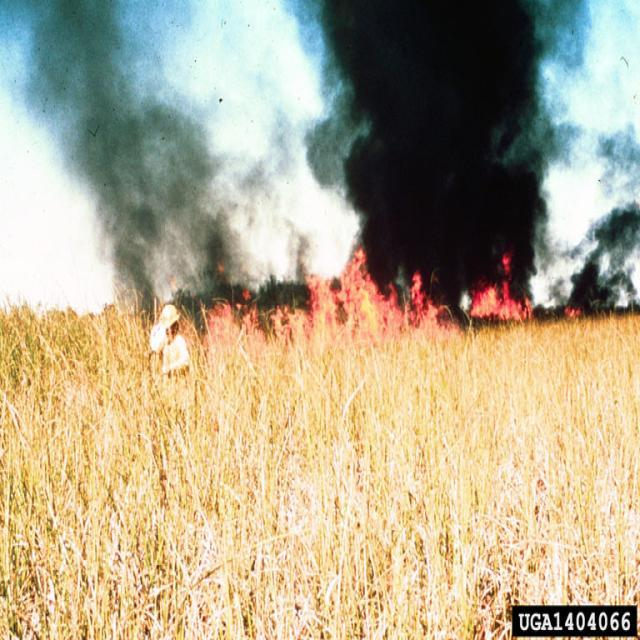Fire: (208, 247, 532, 345)
Smoke: (301, 0, 640, 329)
